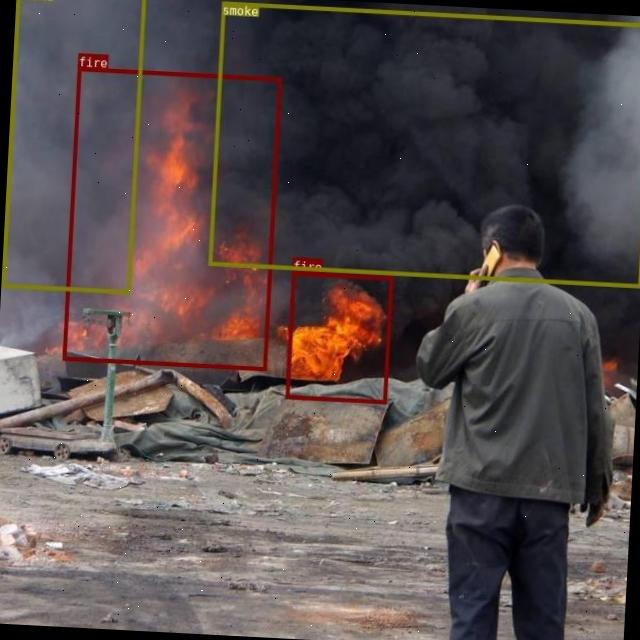fire: (62, 67, 282, 370), (284, 271, 392, 404)
smoke: (209, 0, 640, 286), (1, 0, 146, 294)
